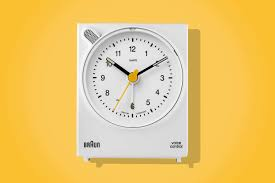alarm_clock: (75, 18, 189, 161)
